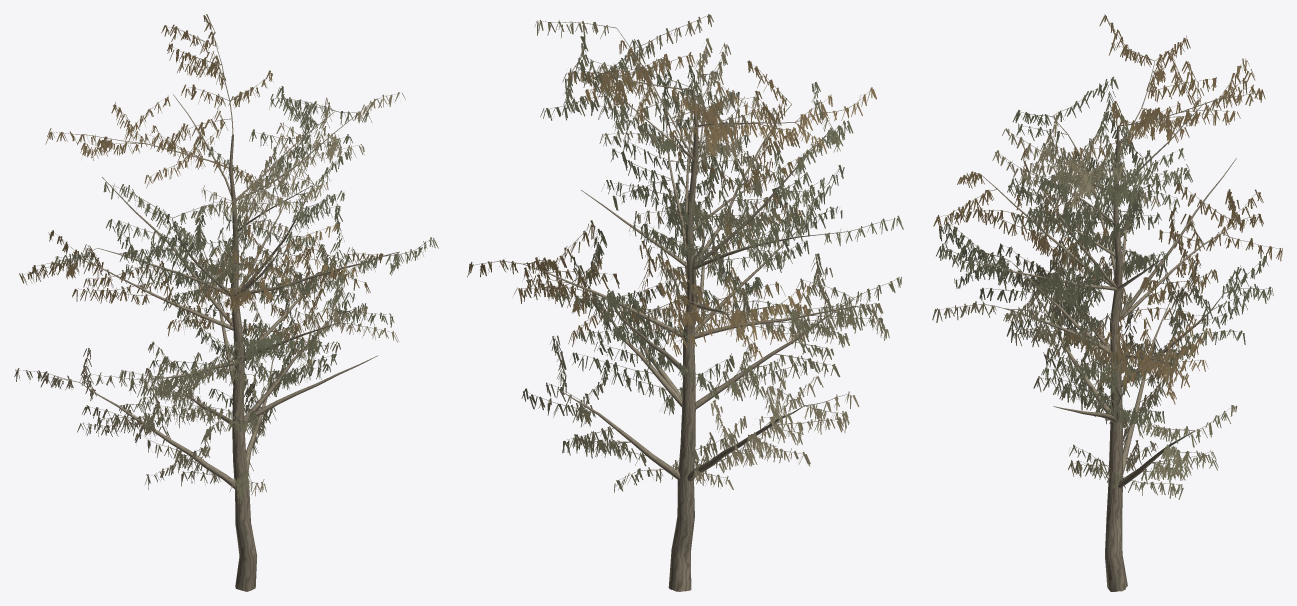
Rendered from euc.glb.
The picture shows the model from 3 angles, left to right: view 1: azimuth 30°, elevation 25°; view 2: azimuth 150°, elevation 25°; view 3: azimuth 270°, elevation 25°; orthographic projection. The views are drawn at different scales.
Parts seen in each view (by area): view 1: euc_lod0_1, euc_lod0_0; view 2: euc_lod0_1, euc_lod0_0; view 3: euc_lod0_1, euc_lod0_0.
Part boxes in pixels (x1=…): euc_lod0_1: x1=14, y1=14, x2=438, y2=504; euc_lod0_0: x1=18, y1=16, x2=428, y2=591; euc_lod0_1: x1=467, y1=14, x2=903, y2=492; euc_lod0_0: x1=474, y1=16, x2=896, y2=591; euc_lod0_1: x1=932, y1=14, x2=1282, y2=499; euc_lod0_0: x1=939, y1=17, x2=1279, y2=591.
Size of what is drawn, in the model's own units: 15.38 by 21.19 by 12.9.
Materials: 2 (1 with a texture image).
